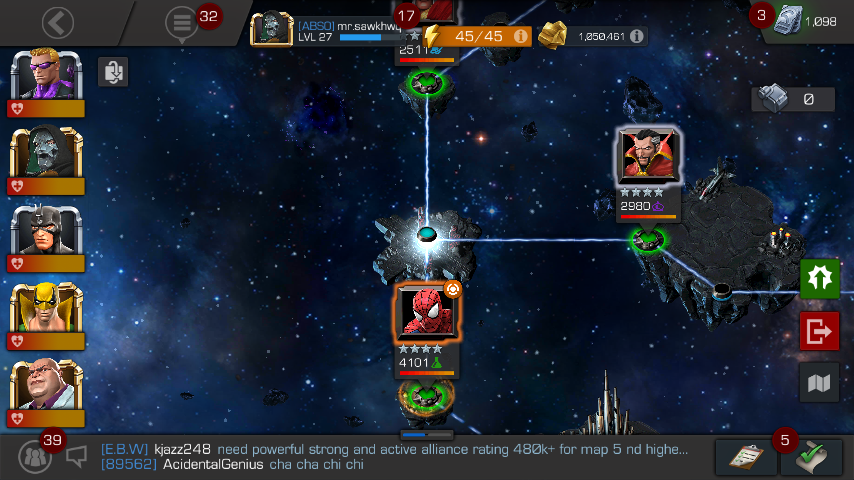green: (418, 387, 436, 402), (418, 74, 437, 88), (639, 231, 657, 244)
